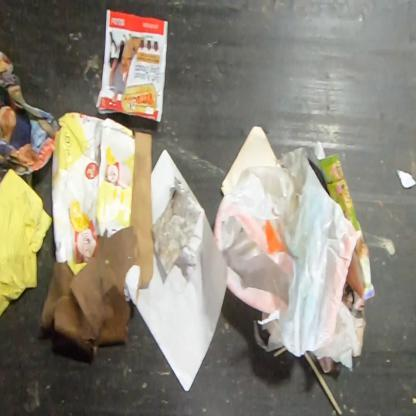cardboard: (51, 111, 155, 307)
soft_plastic: (221, 146, 361, 370), (212, 197, 292, 314)
